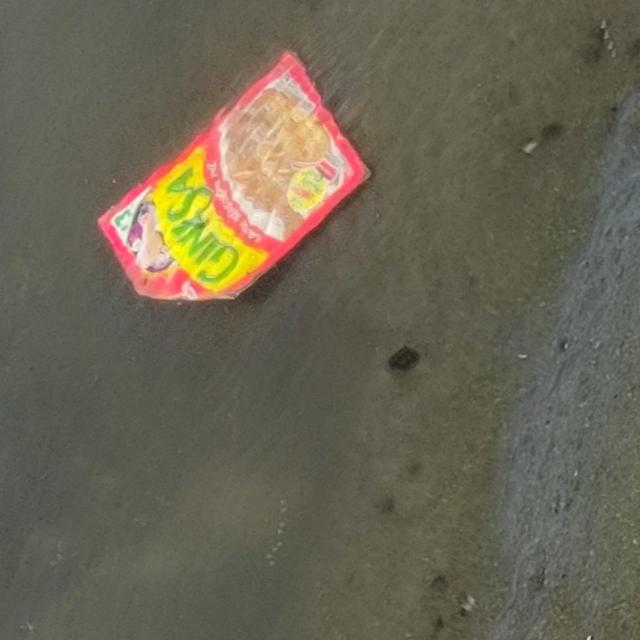plastic_waste: (100, 52, 376, 302)
